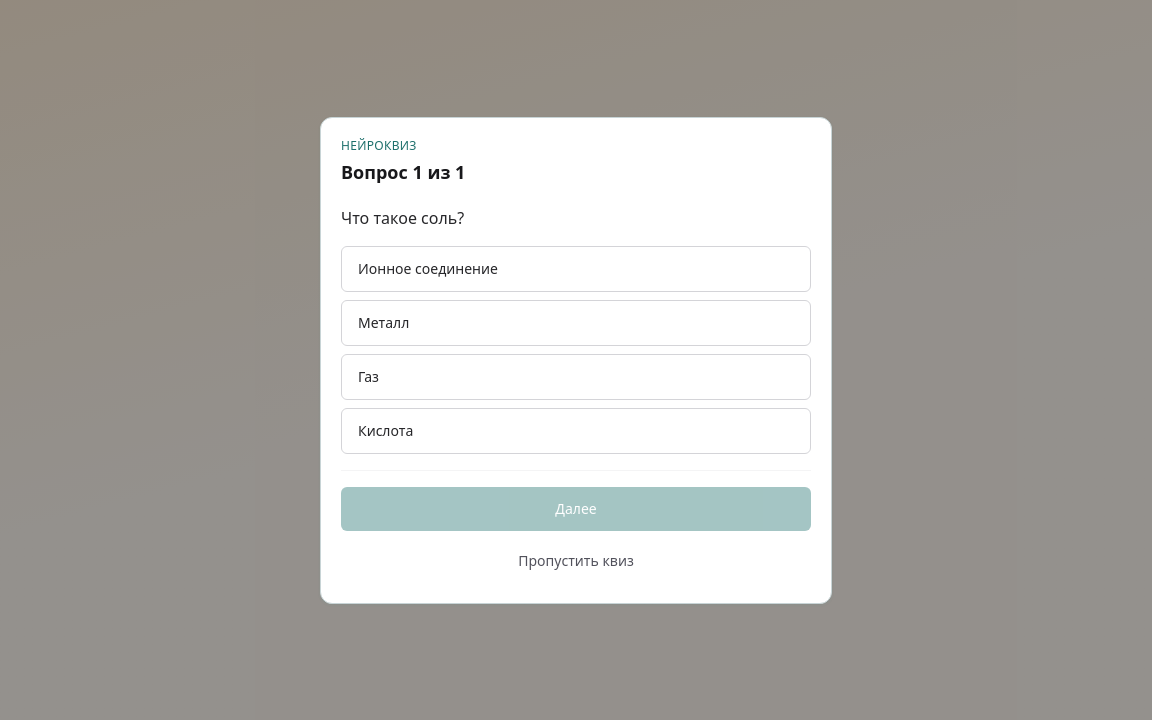
Test: NeuroQuizOverlay › reloads remaining questions after last cached answer when quiz_completed is false
Expected: the text "Что такое соль?" is shown, [341, 206, 464, 228]
Expected: the heading "Вопрос 1 из 1" is shown, [341, 158, 465, 186]
Click the button "Ионное соединение" at {"x": 428, "y": 268}, box [341, 246, 811, 292]
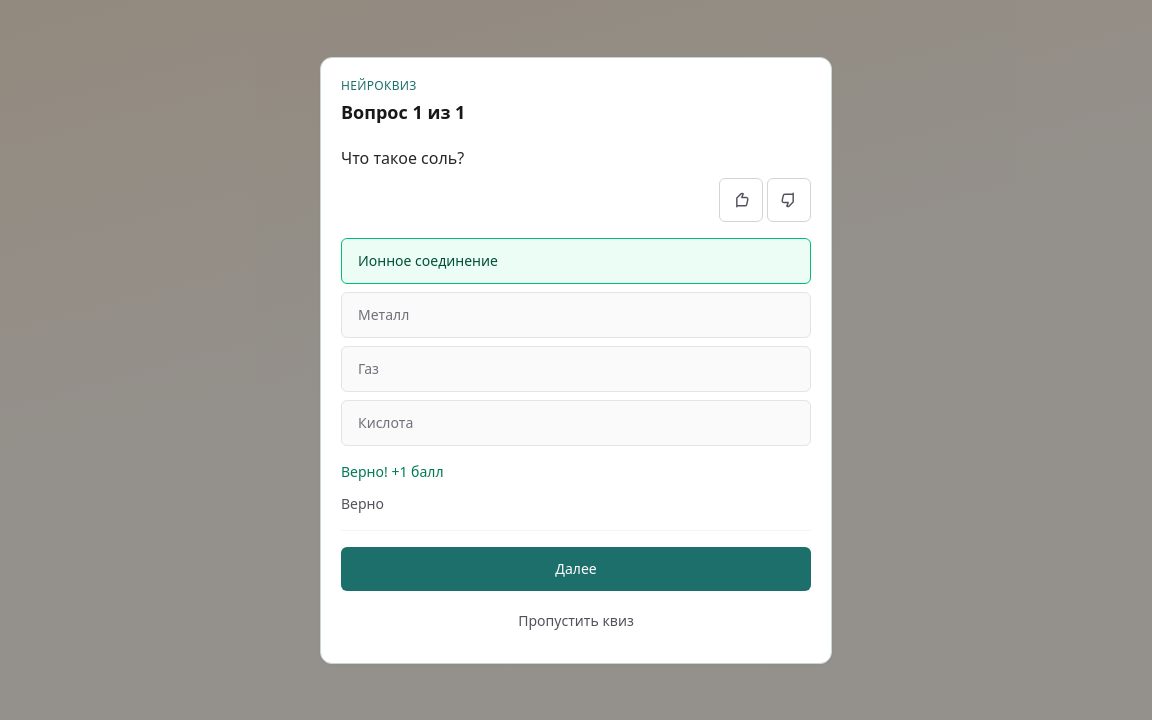
Now the text "Верно! +1 балл" is shown, box [341, 462, 444, 480]
Click the button "Далее" at {"x": 576, "y": 568}, box [341, 546, 811, 590]
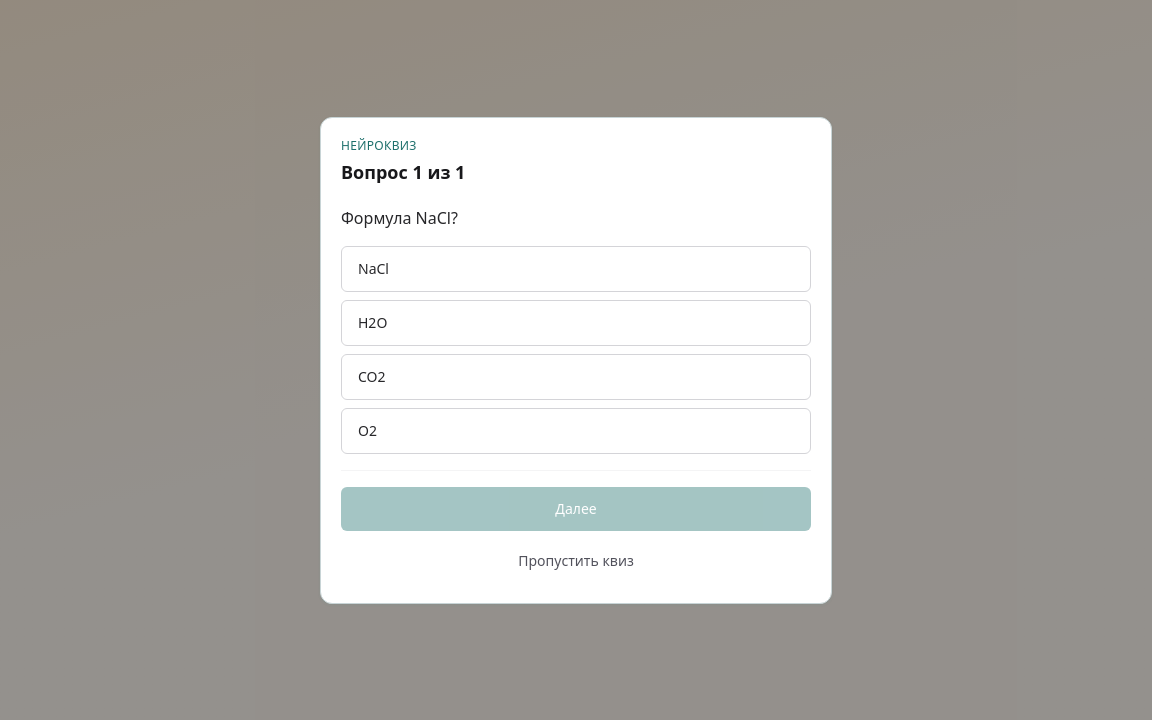
Expected: the heading "Вопрос 1 из 1" is shown, [341, 158, 465, 186]
Now the text "Формула NaCl?" is shown, box [341, 206, 458, 228]
